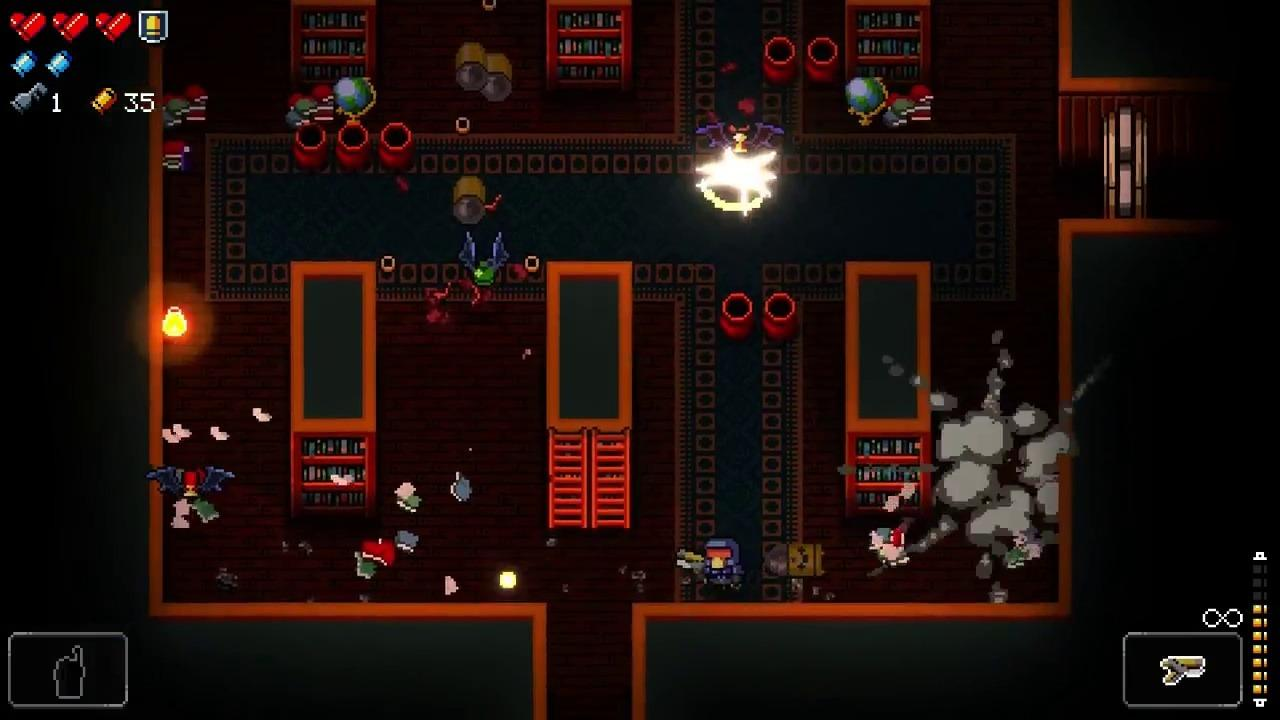bullat: (696, 120, 786, 160)
dead_bullet_kin: (765, 543, 825, 578), (455, 42, 488, 92), (453, 176, 485, 225), (482, 53, 511, 102)
grenat: (459, 230, 508, 288)
locked_door: (1101, 95, 1150, 220)
player: (702, 539, 742, 590)
shotgat: (145, 463, 236, 497)
